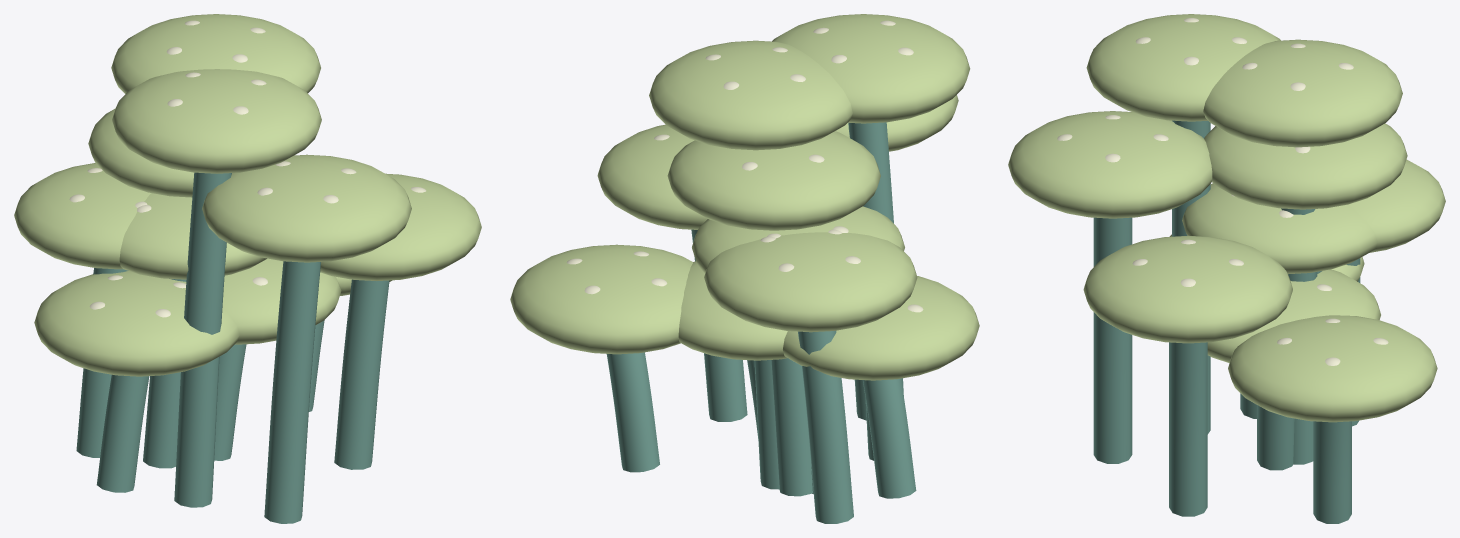
Rendered from bio_spore_fungus_21_near.glb.
3 views of the same model, side by side, from view 1: azimuth 30°, elevation 25°; view 2: azimuth 150°, elevation 25°; view 3: azimuth 270°, elevation 25° (orthographic).
Parts seen in each view (by area): view 1: Thick umbrella cap.007, Thick umbrella cap.002, Thick umbrella cap.004, Thick umbrella cap.003, Curved stipe.007, Curved stipe.002, Thick umbrella cap.001, Thick umbrella cap.005, Curved stipe.005, Thick umbrella cap.009, Thick umbrella cap, Curved stipe.004 (+5 smaller); view 2: Thick umbrella cap.003, Thick umbrella cap.001, Thick umbrella cap.008, Thick umbrella cap.006, Thick umbrella cap.007, Thick umbrella cap.004, Thick umbrella cap.005, Curved stipe.001, Thick umbrella cap, Curved stipe.004, Curved stipe.008, Curved stipe.006 (+5 smaller); view 3: Thick umbrella cap.005, Thick umbrella cap.008, Thick umbrella cap.002, Thick umbrella cap.003, Thick umbrella cap.007, Thick umbrella cap.006, Thick umbrella cap.009, Curved stipe.002, Curved stipe.005, Thick umbrella cap.001, Thick umbrella cap, Curved stipe.008 (+3 smaller).
Boxes of the visible parts, left/top/right/bottom form: Thick umbrella cap.007: left=112, top=69, right=321, bottom=173; Thick umbrella cap.002: left=202, top=154, right=411, bottom=262; Thick umbrella cap.004: left=34, top=271, right=239, bottom=376; Thick umbrella cap.003: left=111, top=14, right=320, bottom=93; Curved stipe.007: left=174, top=172, right=231, bottom=507; Curved stipe.002: left=264, top=261, right=320, bottom=523; Thick umbrella cap.001: left=14, top=163, right=150, bottom=269; Thick umbrella cap.005: left=320, top=173, right=481, bottom=280; Curved stipe.005: left=334, top=279, right=389, bottom=469; Thick umbrella cap.009: left=119, top=193, right=266, bottom=279; Thick umbrella cap: left=222, top=258, right=341, bottom=344; Curved stipe.004: left=96, top=374, right=149, bottom=492; Thick umbrella cap.003: left=649, top=40, right=852, bottom=150; Thick umbrella cap.001: left=704, top=232, right=917, bottom=332; Thick umbrella cap.008: left=510, top=244, right=692, bottom=354; Thick umbrella cap.006: left=667, top=131, right=880, bottom=230; Thick umbrella cap.007: left=772, top=14, right=970, bottom=123; Thick umbrella cap.004: left=783, top=276, right=979, bottom=380; Thick umbrella cap.005: left=597, top=124, right=707, bottom=229; Curved stipe.001: left=798, top=330, right=853, bottom=523; Thick umbrella cap: left=678, top=261, right=787, bottom=360; Curved stipe.004: left=863, top=378, right=916, bottom=498; Curved stipe.008: left=606, top=352, right=659, bottom=472; Curved stipe.006: left=771, top=358, right=812, bottom=496; Thick umbrella cap.005: left=1083, top=235, right=1292, bottom=343; Thick umbrella cap.008: left=1228, top=315, right=1437, bottom=422; Thick umbrella cap.002: left=1008, top=111, right=1212, bottom=218; Thick umbrella cap.003: left=1203, top=39, right=1402, bottom=147; Thick umbrella cap.007: left=1086, top=14, right=1280, bottom=121; Thick umbrella cap.006: left=1204, top=123, right=1407, bottom=209; Thick umbrella cap.009: left=1182, top=183, right=1377, bottom=274; Curved stipe.002: left=1093, top=217, right=1132, bottom=463; Curved stipe.005: left=1169, top=342, right=1207, bottom=516; Thick umbrella cap.001: left=1349, top=159, right=1445, bottom=252; Thick umbrella cap: left=1207, top=269, right=1380, bottom=362; Curved stipe.008: left=1313, top=421, right=1351, bottom=523.
Bounding box in the file's own units: 2.01 × 1.97 × 1.92.
